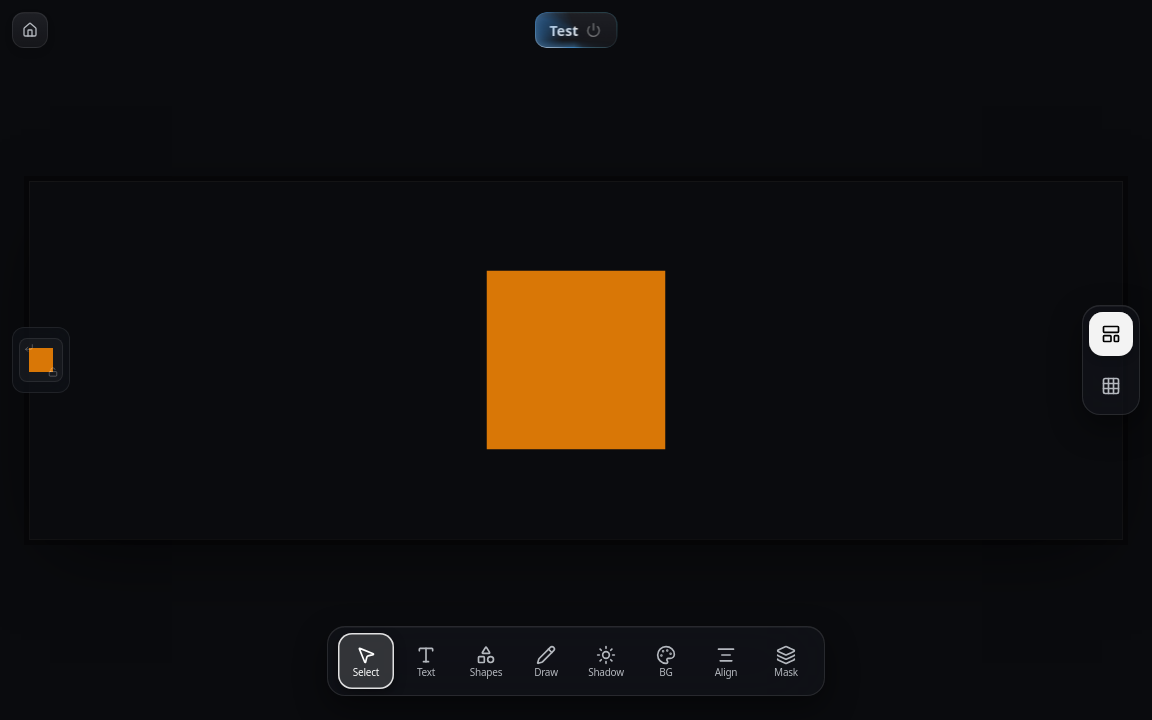
it: FaceplateEditor wiring › GradientFillEditor renders in Shapes peel when a shape layer is selected
Click the button "Shapes". click: (486,661)
box: [458,633,514,689]
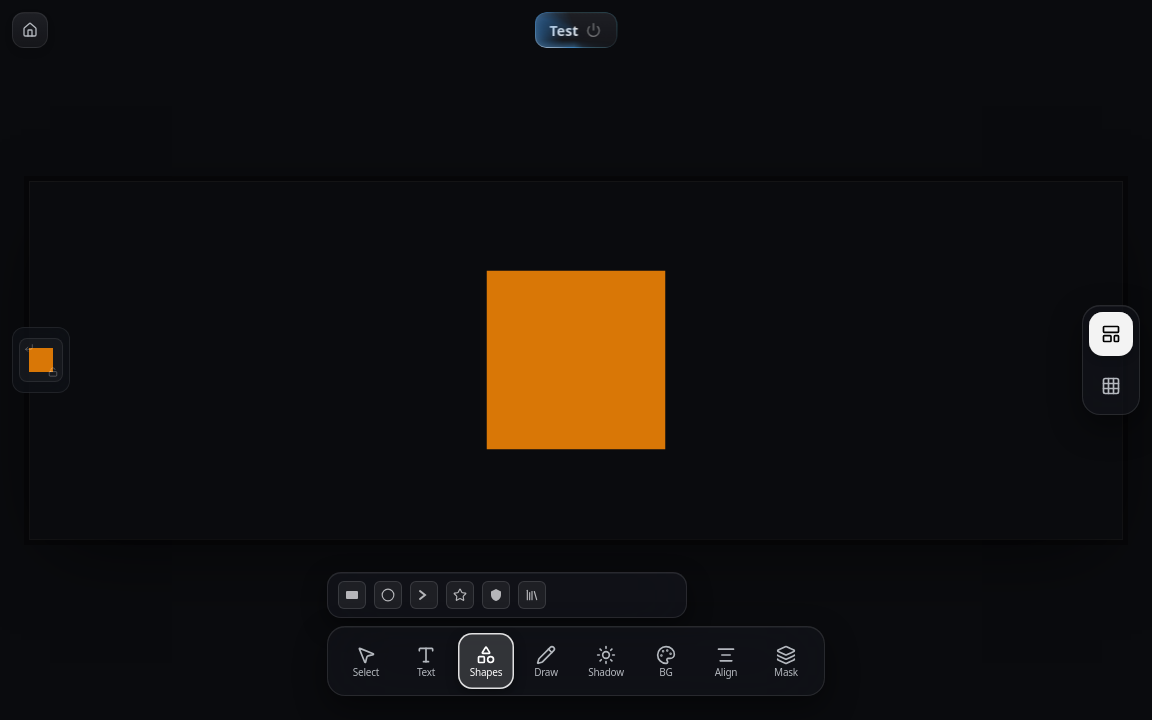
Click the button named "rectangle". click: (41,360)
box: [19,338,63,382]
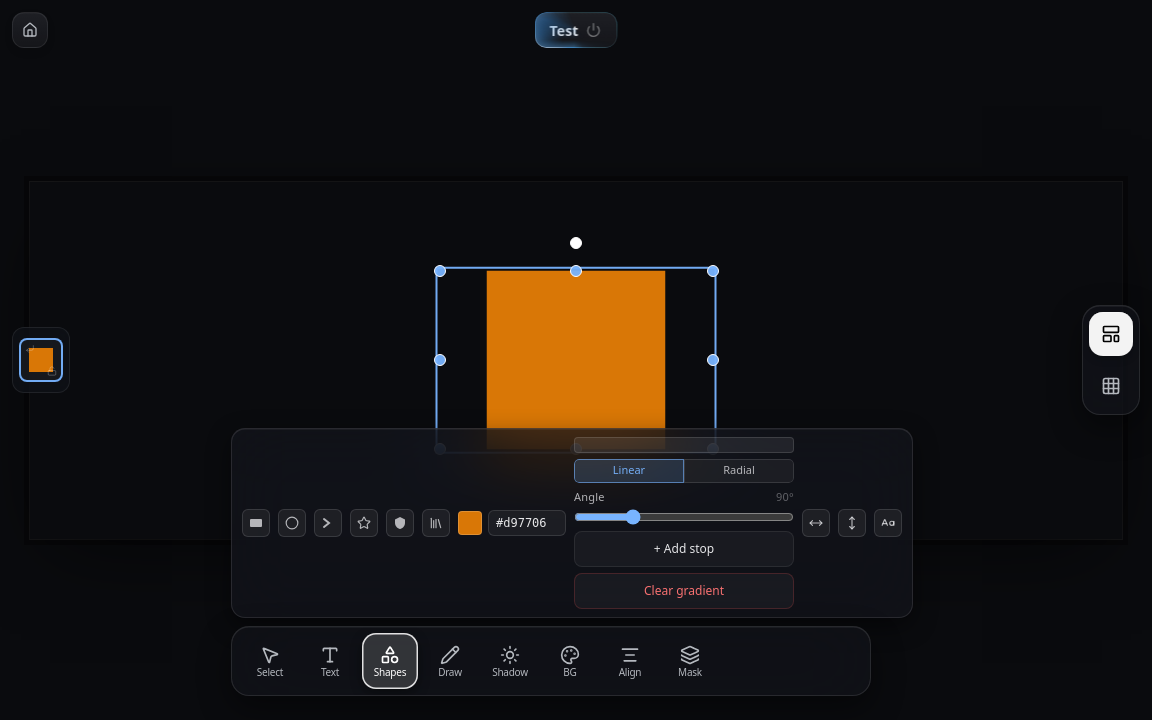
Expected: the element with test id "gradient-fill-editor" is shown, [574,436,794,609]
